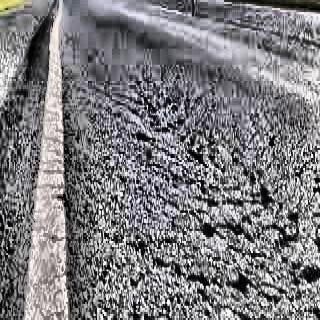alligator-crack: (134, 206, 320, 320), (128, 70, 210, 172), (197, 140, 294, 208), (34, 133, 72, 210)
